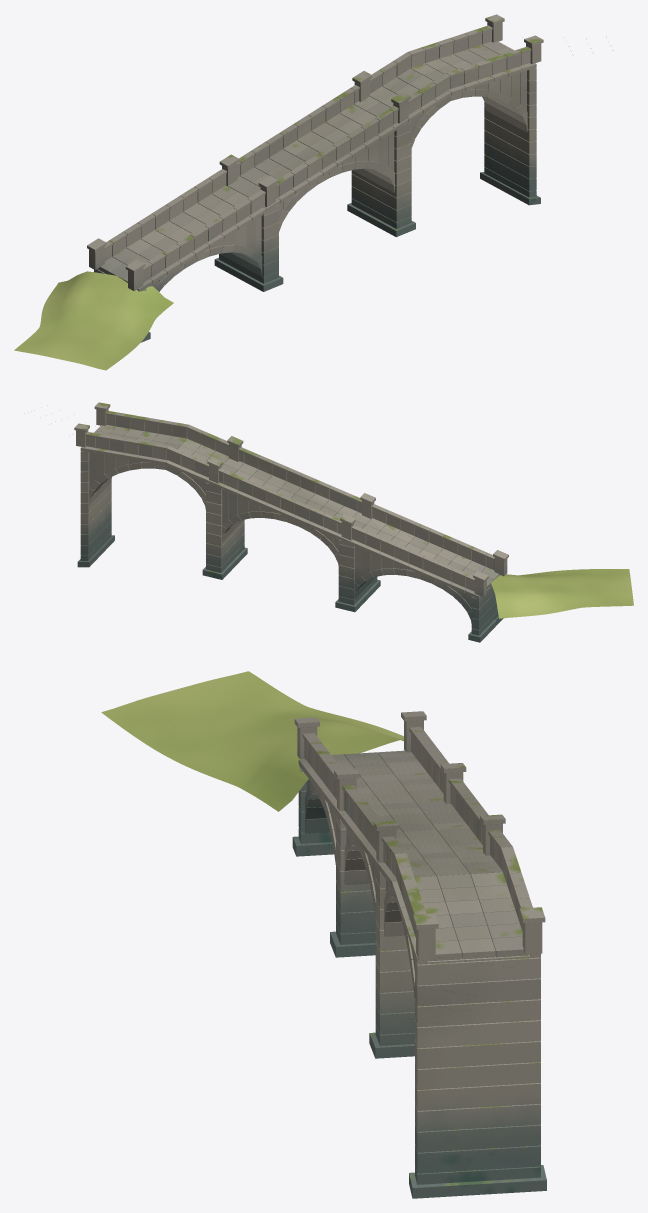
The model's file is bridge.glb.
3 views of the same model, one above another, from view 1: azimuth 30°, elevation 25°; view 2: azimuth 150°, elevation 25°; view 3: azimuth 270°, elevation 25° (orthographic). The views are drawn at different scales.
Parts seen in each view (by area): view 1: V16 source stone bridge; view 2: V16 source stone bridge; view 3: V16 source stone bridge.
Boxes of the visible parts, x1,y1,x2,y2 form: V16 source stone bridge: (14,14,543,370); V16 source stone bridge: (74,402,633,642); V16 source stone bridge: (101,671,546,1198).
Size of the model in its own units: 41.18 by 9.97 by 13.92.
Materials: 1 (1 with a texture image).
